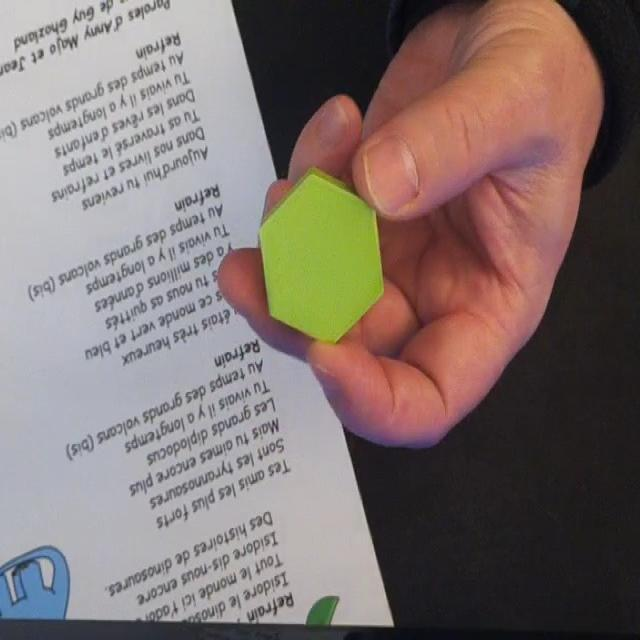hexagon: (258, 172, 387, 345)
